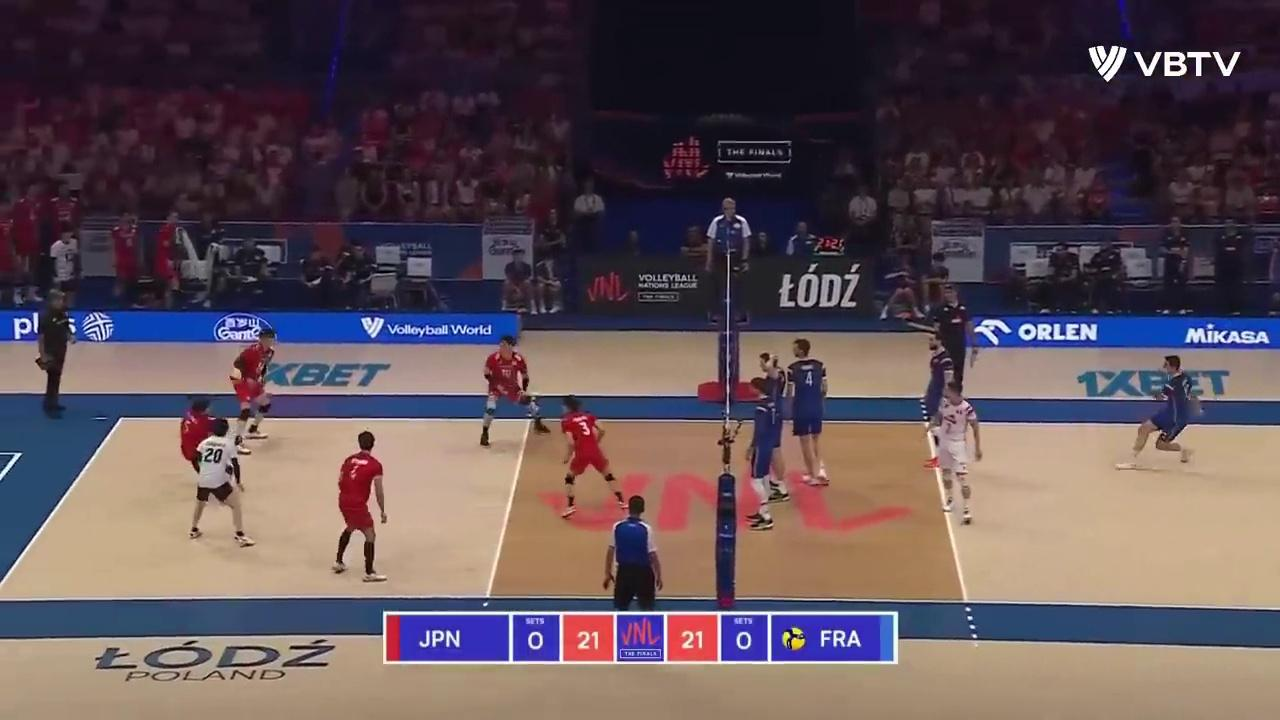ball: (228, 369, 242, 386)
